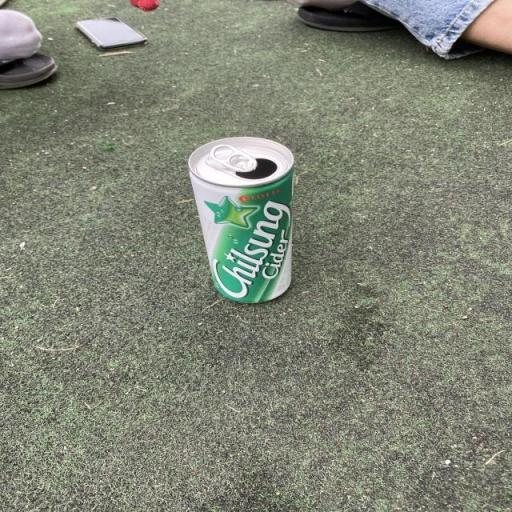metal: (172, 123, 326, 325)
